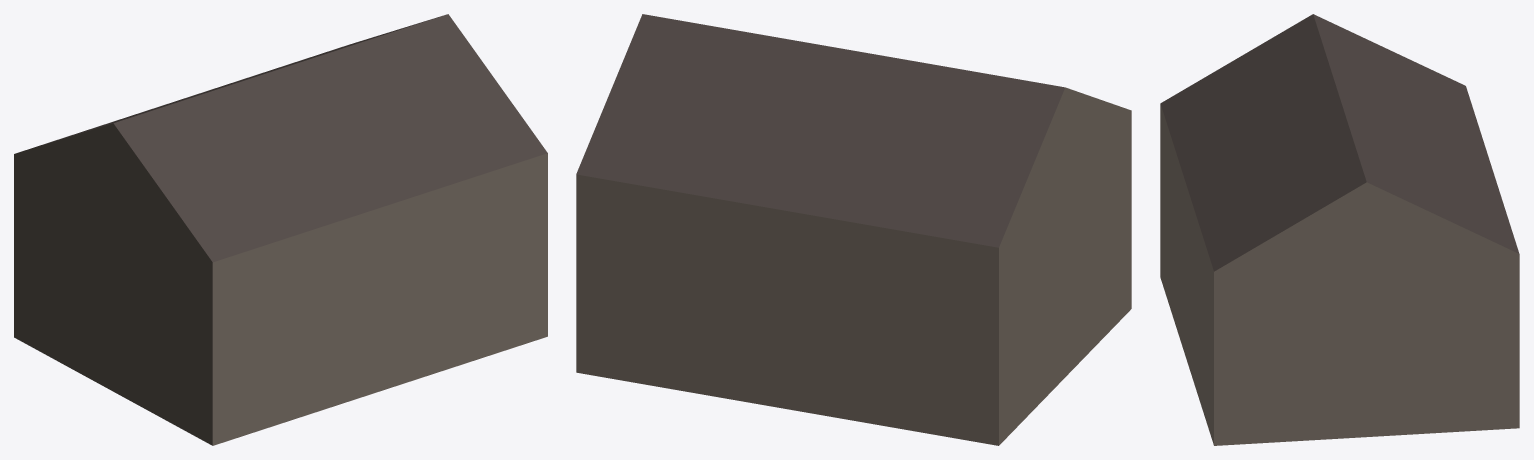
3 renders of one model, left to right at view 1: azimuth 30°, elevation 25°; view 2: azimuth 150°, elevation 25°; view 3: azimuth 270°, elevation 25°, orthographic. The views are drawn at different scales.
Parts seen in each view (by area): view 1: HP-w1319816431; view 2: HP-w1319816431; view 3: HP-w1319816431.
Part boxes in pixels (x1,y1,x2,y2): HP-w1319816431: [14, 14, 547, 445]; HP-w1319816431: [576, 14, 1131, 445]; HP-w1319816431: [1160, 14, 1519, 445].
Bounding box in the file's own units: 13.73 × 8.78 × 11.21.
